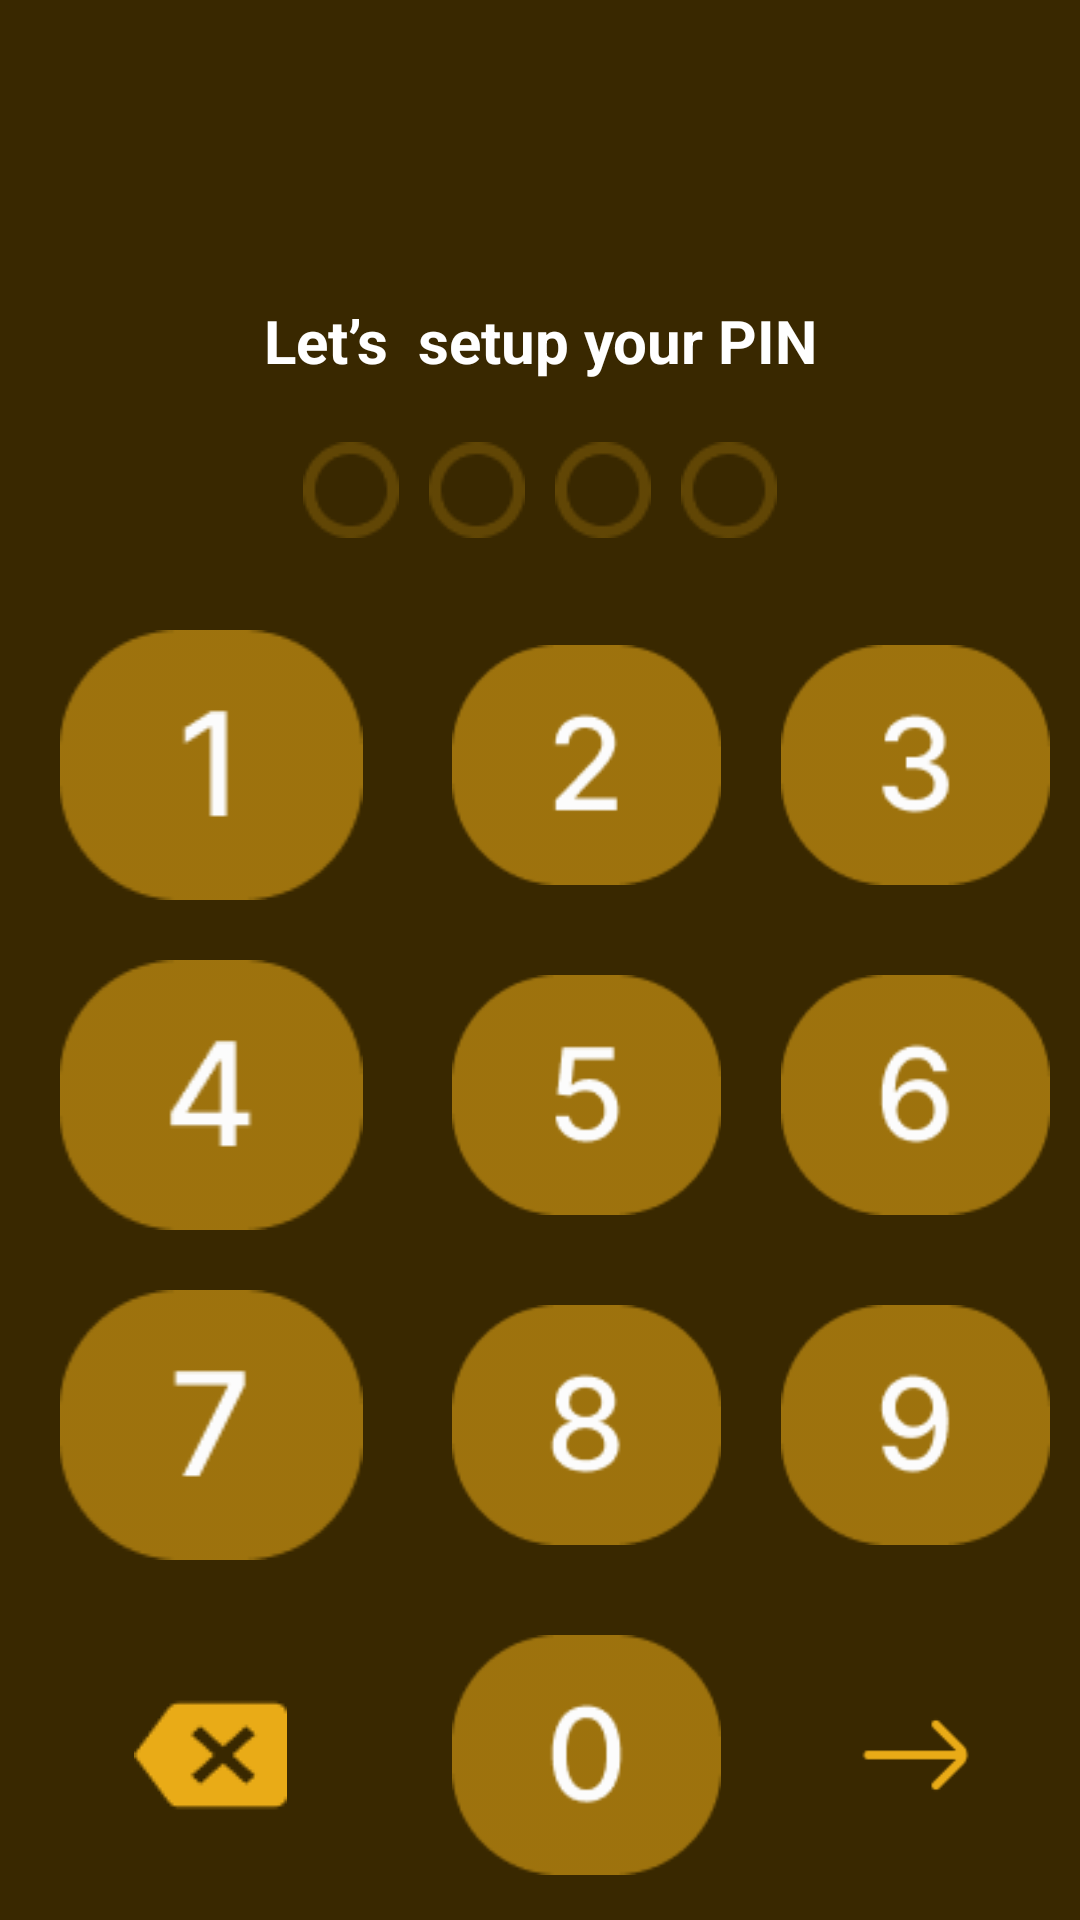

Where to tap for icons on this 1080*1920 app screen, as (x,y):
backspace: (210,1755)
